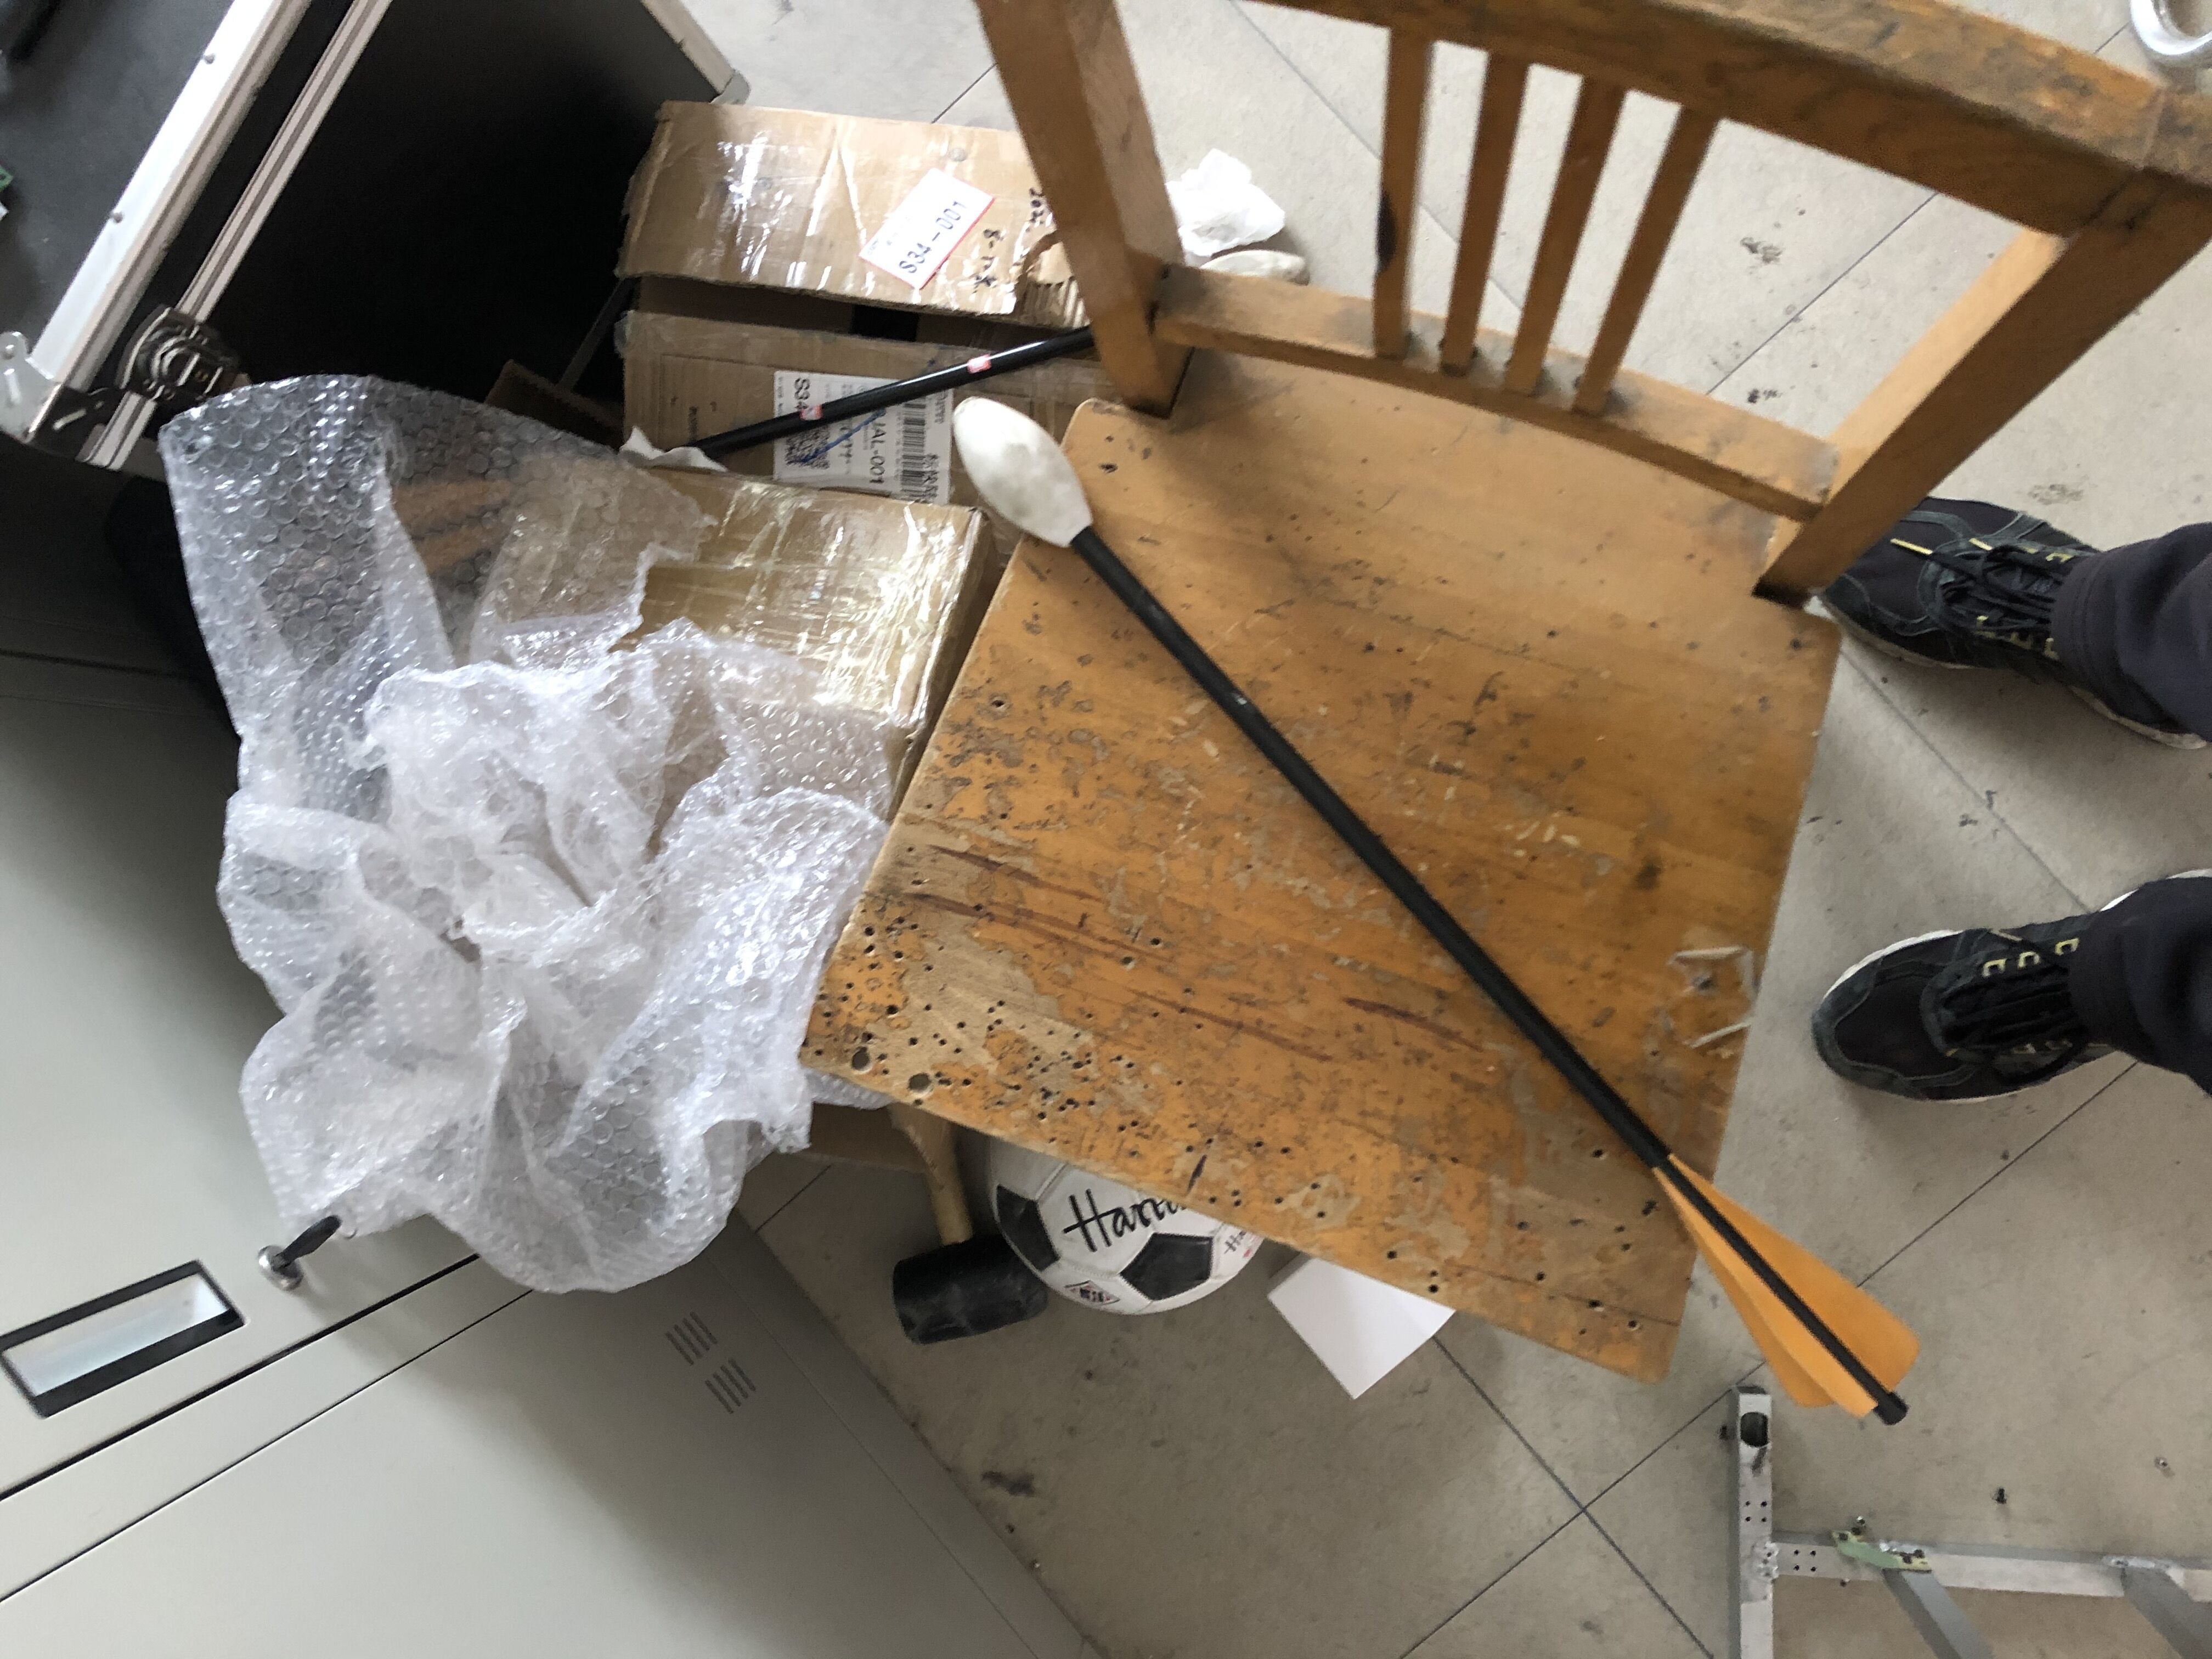arrow: (951, 399, 1925, 1425)
arrowFront: (951, 394, 1096, 545)
